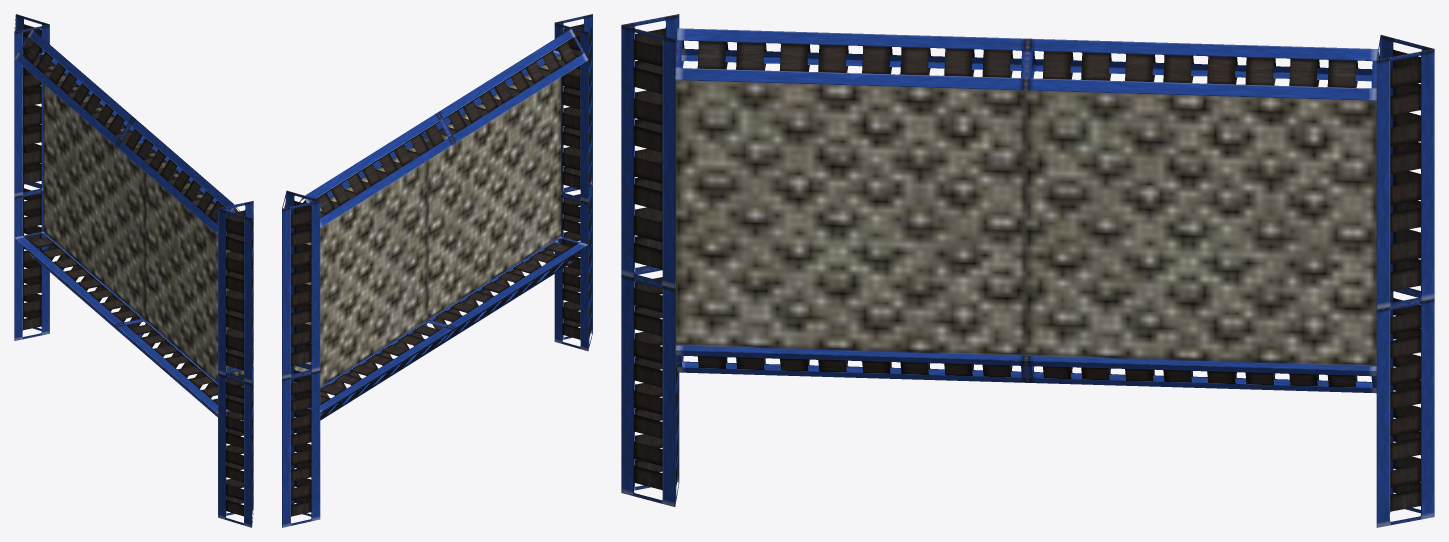
Rendered from CassandraDisplay.FBX.
The picture shows the model from 3 angles, left to right: view 1: azimuth 30°, elevation 25°; view 2: azimuth 150°, elevation 25°; view 3: azimuth 270°, elevation 25°; orthographic projection. The views are drawn at different scales.
Parts seen in each view (by area): view 1: animated_billboard_strut006; view 2: animated_billboard_strut006; view 3: animated_billboard_strut006.
Part boxes in pixels (bbox=[...]): animated_billboard_strut006: bbox=[14, 14, 253, 527]; animated_billboard_strut006: bbox=[282, 14, 592, 527]; animated_billboard_strut006: bbox=[621, 14, 1434, 527].
Bounding box in the file's own units: 1256 × 5970 × 9401.
1 material, 1 textured.
